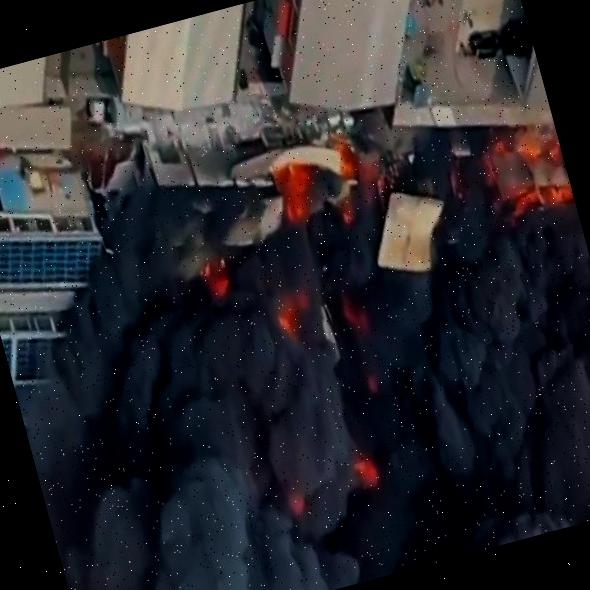smoke: (0, 153, 280, 590), (345, 259, 590, 569)
